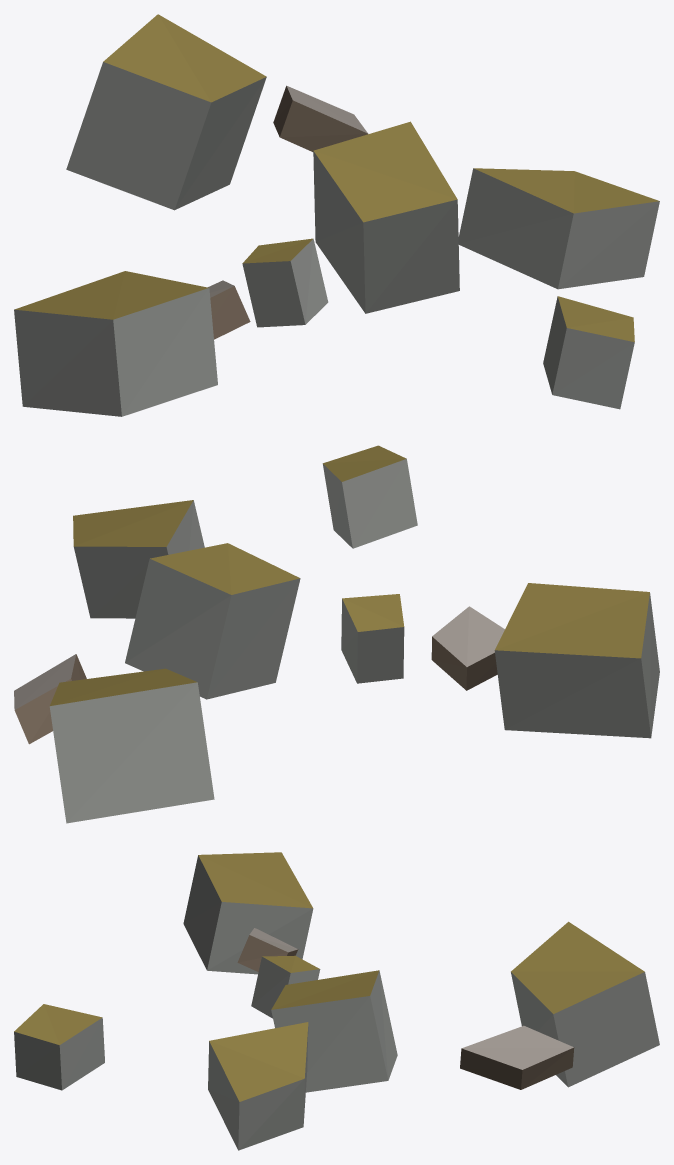
The model's file is rock.rubble__crusted__winter.glb.
3 renders of one model, top to bottom at view 1: azimuth 30°, elevation 25°; view 2: azimuth 150°, elevation 25°; view 3: azimuth 270°, elevation 25°, orthographic. The views are drawn at different scales.
Parts seen in each view (by area): view 1: rock.rubble; view 2: rock.rubble; view 3: rock.rubble.
Boxes of the visible parts, <box> form: rock.rubble: <box>14,14,659,416</box>; rock.rubble: <box>14,445,659,823</box>; rock.rubble: <box>14,852,659,1150</box>.
Bounding box in the file's own units: 2.26 × 0.536 × 2.65.
